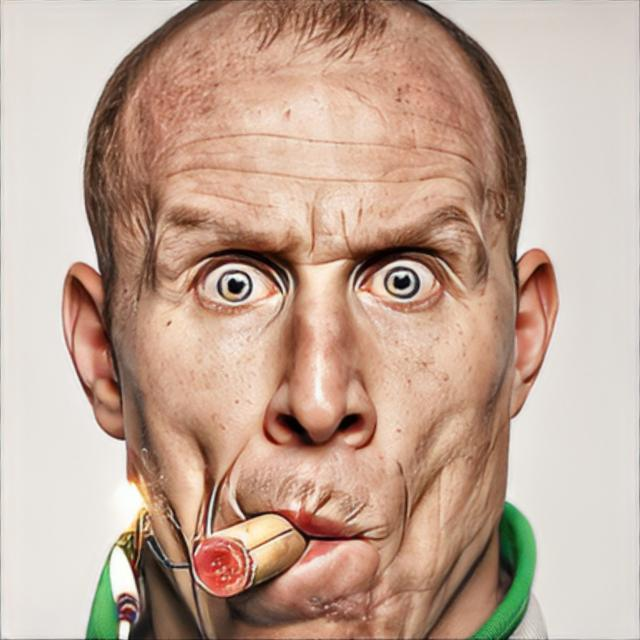fear: (110, 0, 514, 640)
